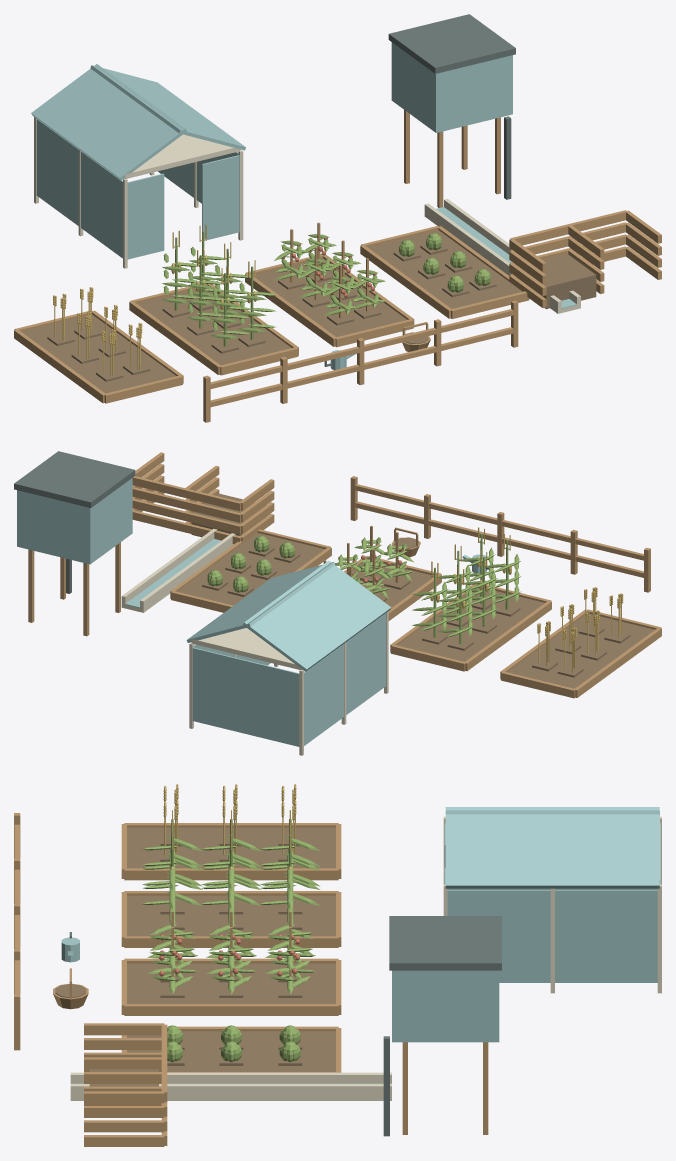
The model's file is cozy-farm-and-homestead-cultivated-growing-area-45eb81d6__19429.glb.
3 renders of one model, top to bottom at view 1: azimuth 30°, elevation 25°; view 2: azimuth 150°, elevation 25°; view 3: azimuth 270°, elevation 25°, orthographic. The views are drawn at different scales.
Visible parts, largest first — view 1: 028-potting-greenhouse/1, 030-compost-bays/0, 029-water-header-tank/2, 029-water-header-tank/1, 000-raised-field-bed/1, 021-raised-field-bed/1, 007-raised-field-bed/1, 028-potting-greenhouse/0, 014-raised-field-bed/1, 000-raised-field-bed/0, 021-raised-field-bed/0, 007-raised-field-bed/0 (+19 smaller); view 2: 028-potting-greenhouse/1, 030-compost-bays/0, 029-water-header-tank/2, 029-water-header-tank/1, 000-raised-field-bed/1, 007-raised-field-bed/1, 021-raised-field-bed/1, 028-potting-greenhouse/0, 000-raised-field-bed/0, 007-raised-field-bed/0, 029-water-header-tank/0, 021-raised-field-bed/0 (+17 smaller); view 3: 028-potting-greenhouse/1, 030-compost-bays/0, 029-water-header-tank/2, 029-water-header-tank/1, 014-raised-field-bed/1, 007-raised-field-bed/1, 000-raised-field-bed/1, 021-raised-field-bed/1, 014-raised-field-bed/0, 000-raised-field-bed/0, 007-raised-field-bed/0, 034-irrigation-trough/0 (+18 smaller).
Part boxes in pixels (bbox=[...]): 028-potting-greenhouse/1: bbox=[31, 64, 245, 259]; 030-compost-bays/0: bbox=[509, 210, 661, 307]; 029-water-header-tank/2: bbox=[391, 42, 512, 132]; 029-water-header-tank/1: bbox=[388, 14, 515, 199]; 000-raised-field-bed/1: bbox=[21, 314, 176, 393]; 021-raised-field-bed/1: bbox=[367, 230, 522, 308]; 007-raised-field-bed/1: bbox=[136, 289, 291, 365]; 028-potting-greenhouse/0: bbox=[34, 117, 243, 268]; 014-raised-field-bed/1: bbox=[253, 258, 406, 336]; 000-raised-field-bed/0: bbox=[14, 310, 183, 403]; 021-raised-field-bed/0: bbox=[360, 226, 529, 318]; 007-raised-field-bed/0: bbox=[129, 283, 298, 375]; 028-potting-greenhouse/1: bbox=[186, 560, 391, 746]; 030-compost-bays/0: bbox=[132, 452, 274, 544]; 029-water-header-tank/2: bbox=[17, 478, 132, 564]; 029-water-header-tank/1: bbox=[14, 451, 135, 593]; 000-raised-field-bed/1: bbox=[507, 613, 654, 688]; 007-raised-field-bed/1: bbox=[397, 587, 544, 661]; 021-raised-field-bed/1: bbox=[177, 532, 324, 605]; 028-potting-greenhouse/0: bbox=[189, 611, 388, 755]; 000-raised-field-bed/0: bbox=[500, 609, 661, 698]; 007-raised-field-bed/0: bbox=[390, 584, 551, 671]; 029-water-header-tank/0: bbox=[28, 542, 120, 636]; 021-raised-field-bed/0: bbox=[170, 529, 331, 612]; 028-potting-greenhouse/1: bbox=[444, 807, 660, 982]; 030-compost-bays/0: bbox=[84, 1023, 167, 1146]; 029-water-header-tank/2: bbox=[392, 970, 499, 1042]; 029-water-header-tank/1: bbox=[383, 916, 501, 1136]; 014-raised-field-bed/1: bbox=[127, 963, 335, 1003]; 007-raised-field-bed/1: bbox=[127, 895, 335, 936]; 000-raised-field-bed/1: bbox=[127, 827, 335, 868]; 021-raised-field-bed/1: bbox=[127, 1031, 335, 1071]; 014-raised-field-bed/0: bbox=[121, 958, 341, 1015]; 000-raised-field-bed/0: bbox=[121, 823, 341, 880]; 007-raised-field-bed/0: bbox=[121, 891, 341, 947]; 034-irrigation-trough/0: bbox=[178, 1072, 284, 1100].
Size of the model in its own units: 14.1 by 3.65 by 12.1.
